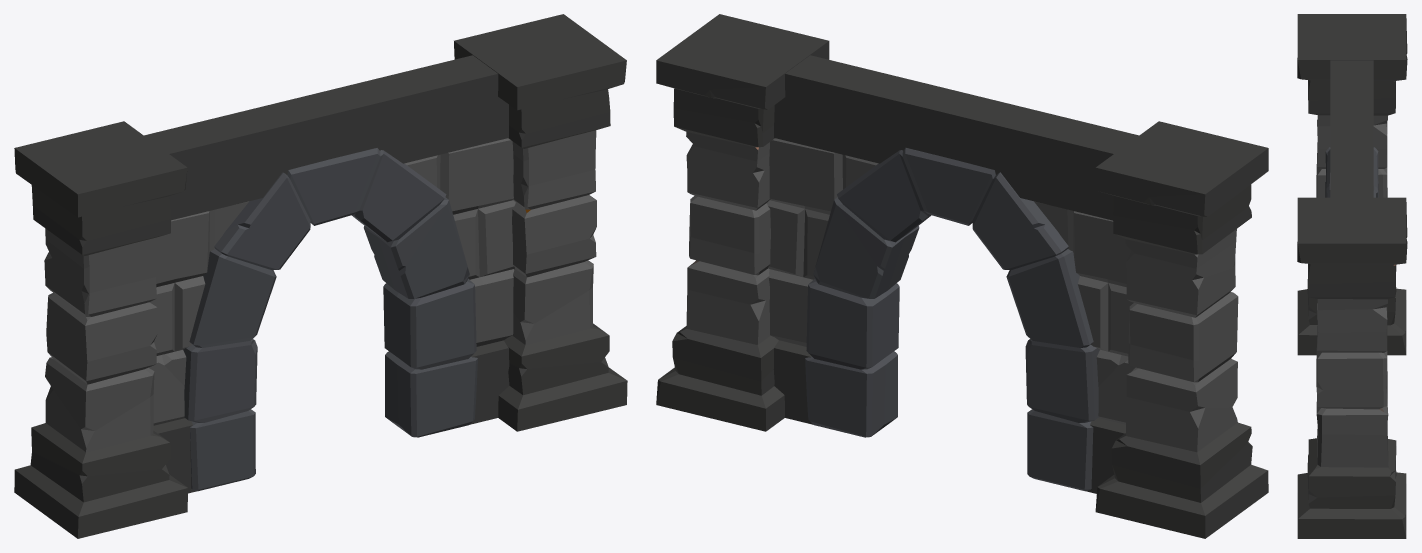
File: door.fbx
The picture shows the model from 3 angles, left to right: view 1: azimuth 30°, elevation 25°; view 2: azimuth 150°, elevation 25°; view 3: azimuth 270°, elevation 25°; orthographic projection. The views are drawn at different scales.
Parts seen in each view (by area): view 1: door.004; view 2: door.004; view 3: door.004.
Part boxes in pixels (left/top/right/bottom): door.004: left=14, top=14, right=627, bottom=538; door.004: left=656, top=14, right=1268, bottom=538; door.004: left=1297, top=14, right=1407, bottom=538.
Size of the model in its own units: 7 by 1.41 by 4.19.
1 material, 1 textured.
